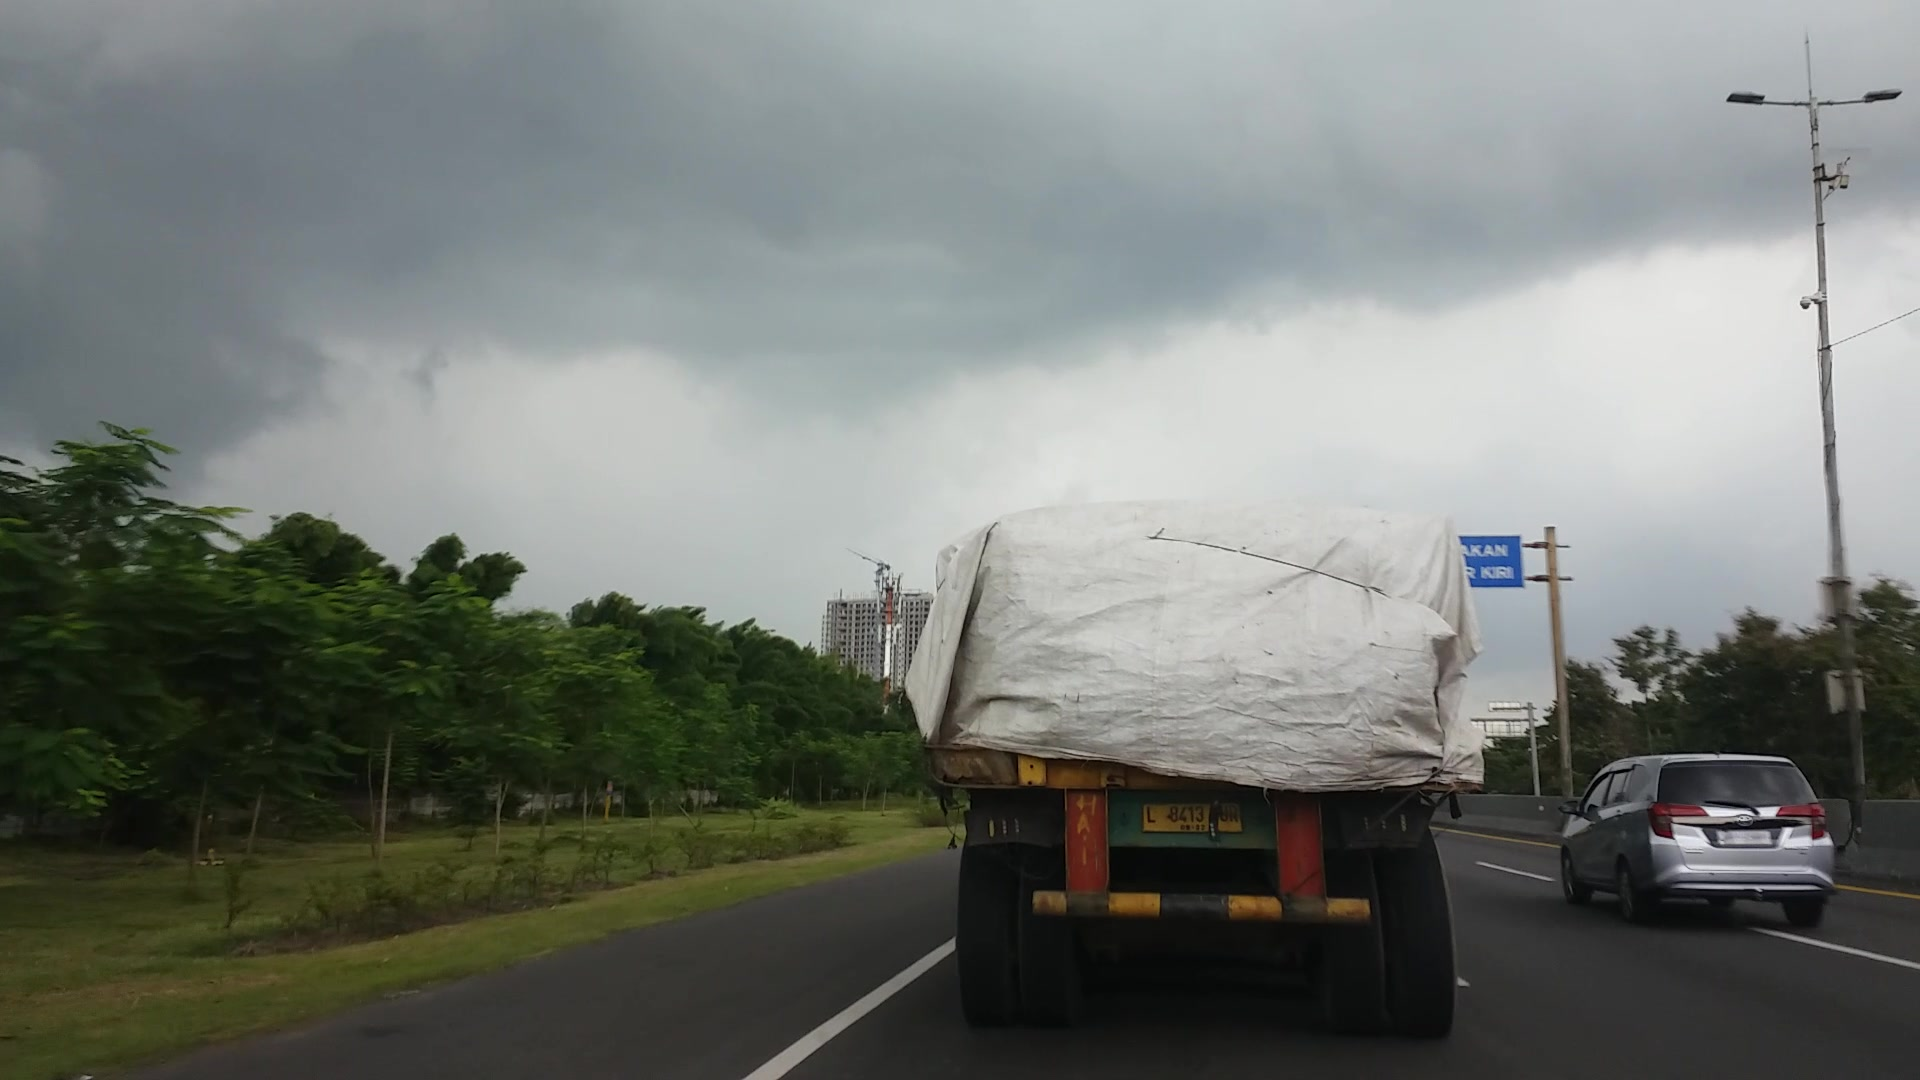plate_positive: (1142, 800, 1244, 833)
